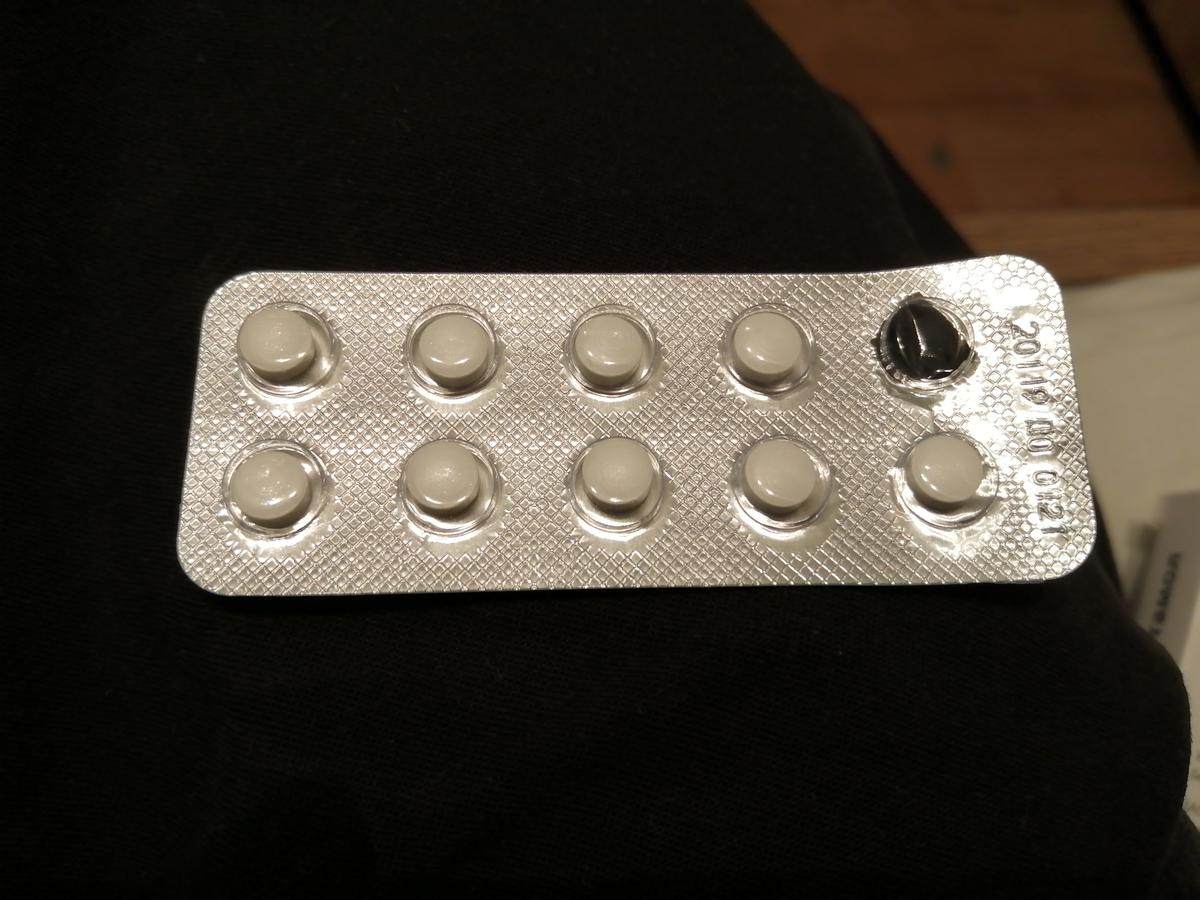tablet: (404, 303, 504, 397), (565, 303, 658, 397), (226, 445, 320, 527), (234, 304, 325, 384), (907, 432, 989, 508), (739, 438, 825, 510), (727, 304, 807, 381), (579, 434, 658, 509), (406, 443, 481, 515)
